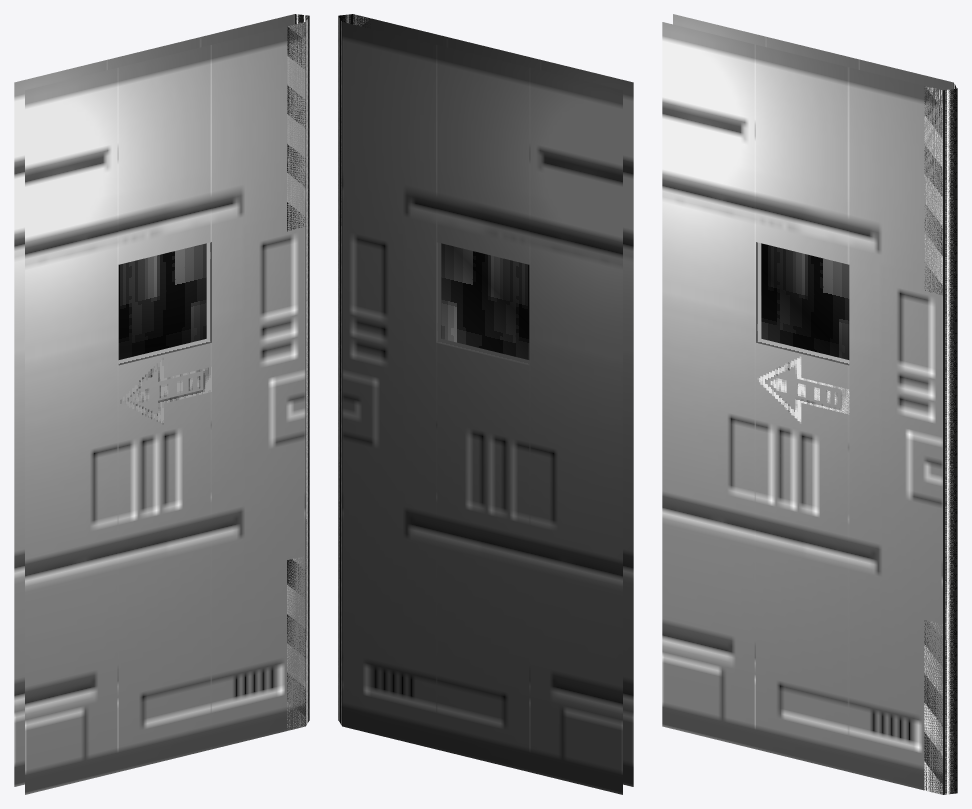
File: Psev_door4_windZ.obj
The picture shows the model from 3 angles, left to right: view 1: azimuth 30°, elevation 25°; view 2: azimuth 150°, elevation 25°; view 3: azimuth 330°, elevation 25°; orthographic projection.
Size of the model in its own units: 904 by 2100 by 58.
8 materials, 8 textured.
